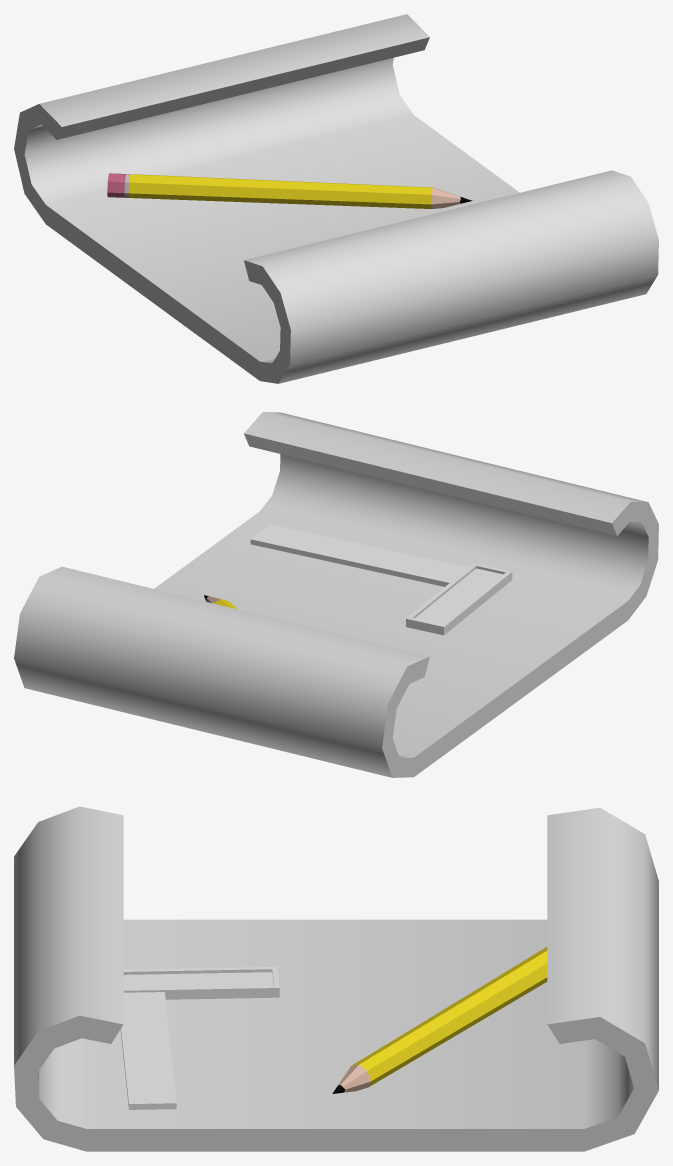
Rendered from SM_Plan_001.fbx.
The picture shows the model from 3 angles, top to bottom: view 1: azimuth 30°, elevation 25°; view 2: azimuth 150°, elevation 25°; view 3: azimuth 270°, elevation 25°; orthographic projection. The views are drawn at different scales.
Parts seen in each view (by area): view 1: Plan; view 2: Plan; view 3: Plan.
Boxes of the visible parts, box(x1,y1,x2,y2) form: Plan: box(14, 14, 658, 383); Plan: box(14, 412, 658, 777); Plan: box(14, 806, 658, 1151).
Size of the model in its own units: 33 by 10 by 43.
